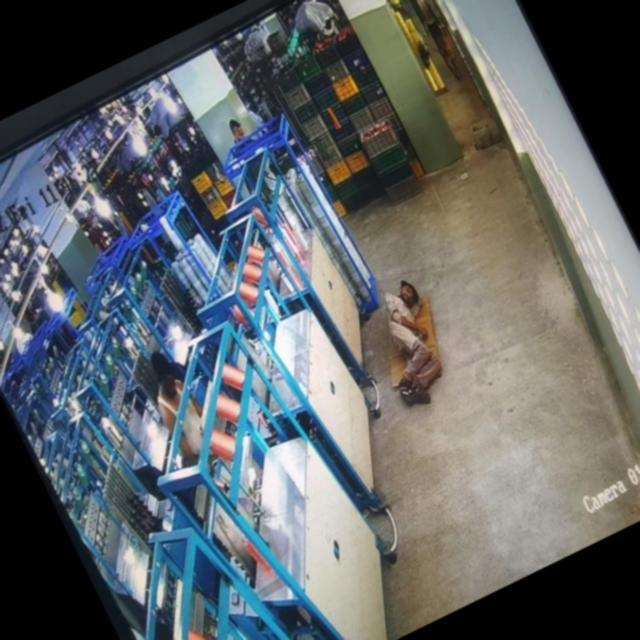person: (354, 270, 464, 410), (134, 342, 212, 454), (225, 114, 250, 144)
